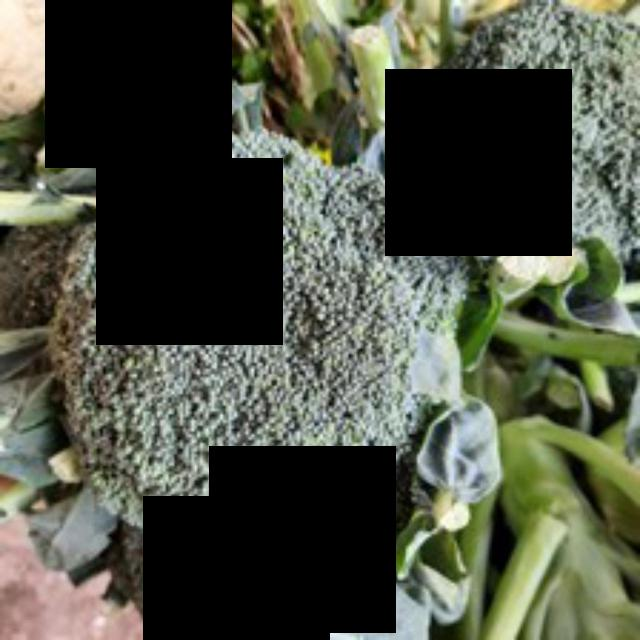broccoli: (43, 113, 461, 581)
